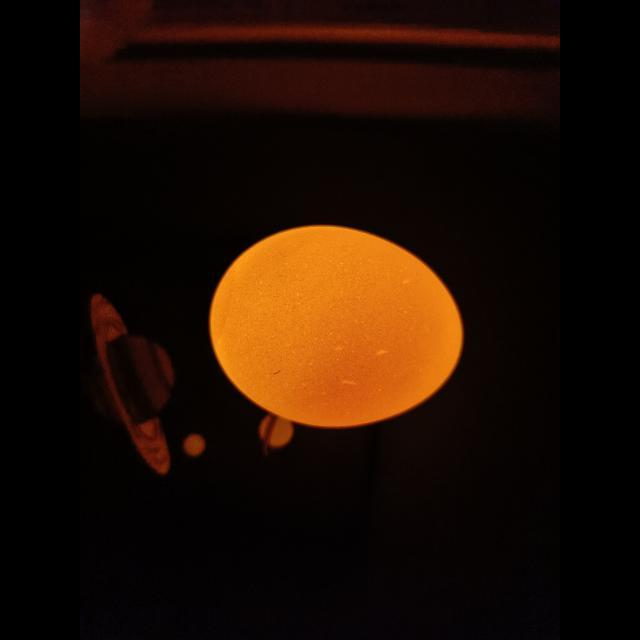AA - Premium: (210, 225, 463, 428), (330, 333, 331, 334)
